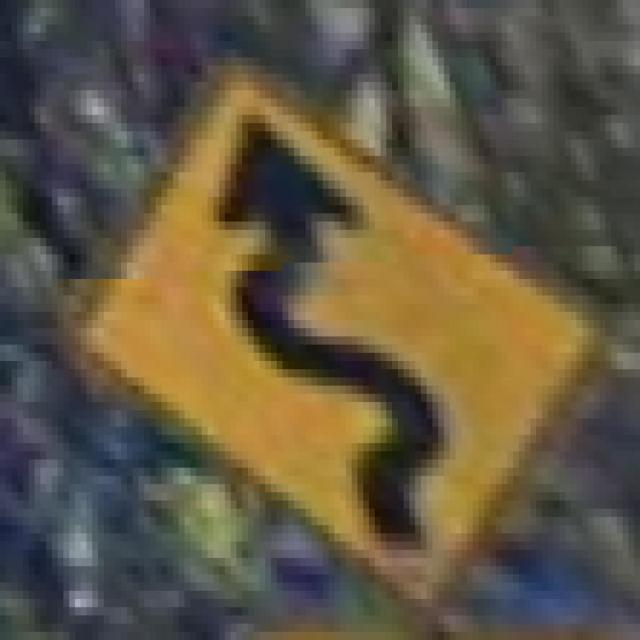Banyak Tikungan Pertama Kanan: (52, 49, 600, 616)
